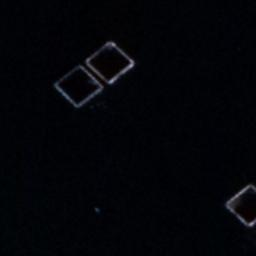square_solid: (81, 33, 139, 89), (49, 60, 109, 111), (219, 178, 256, 238)
